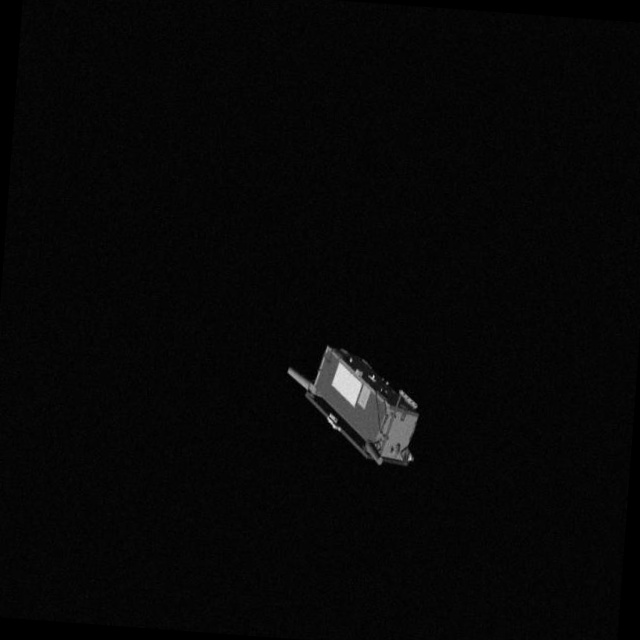satellite: (273, 335, 434, 476)
